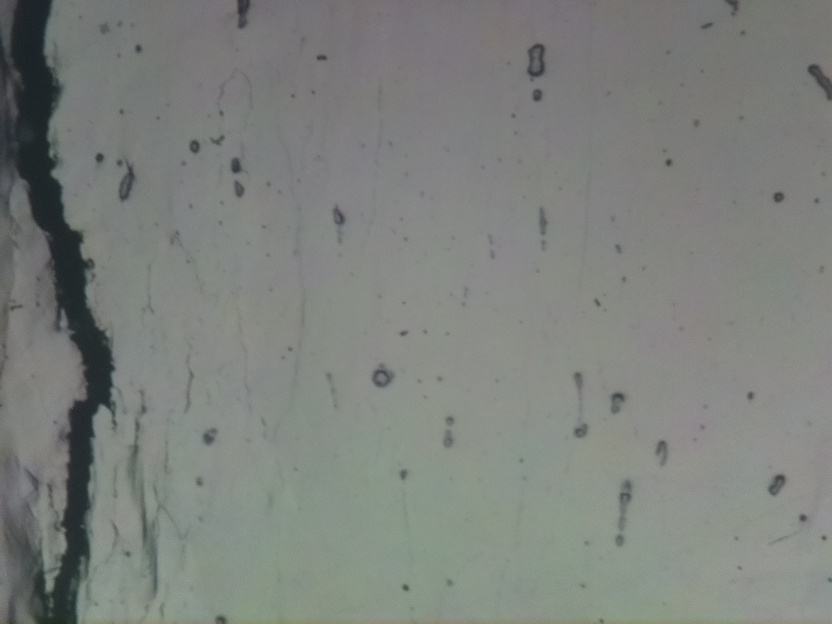crack: (11, 0, 114, 624)
